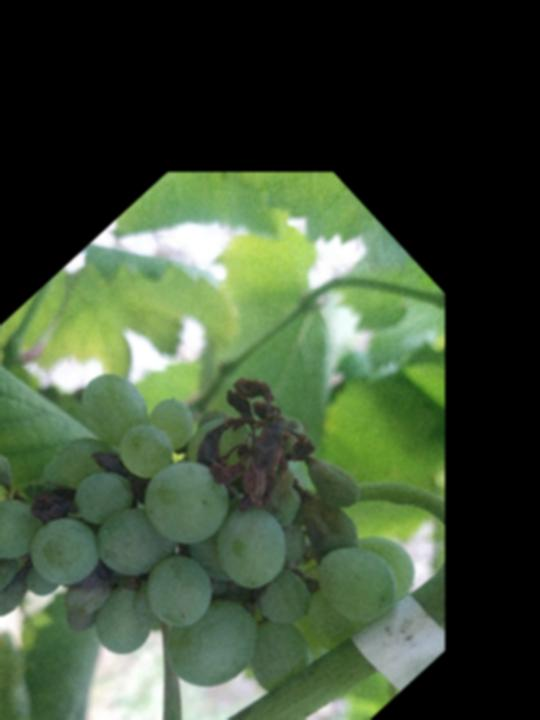grape: (0, 280, 441, 720)
